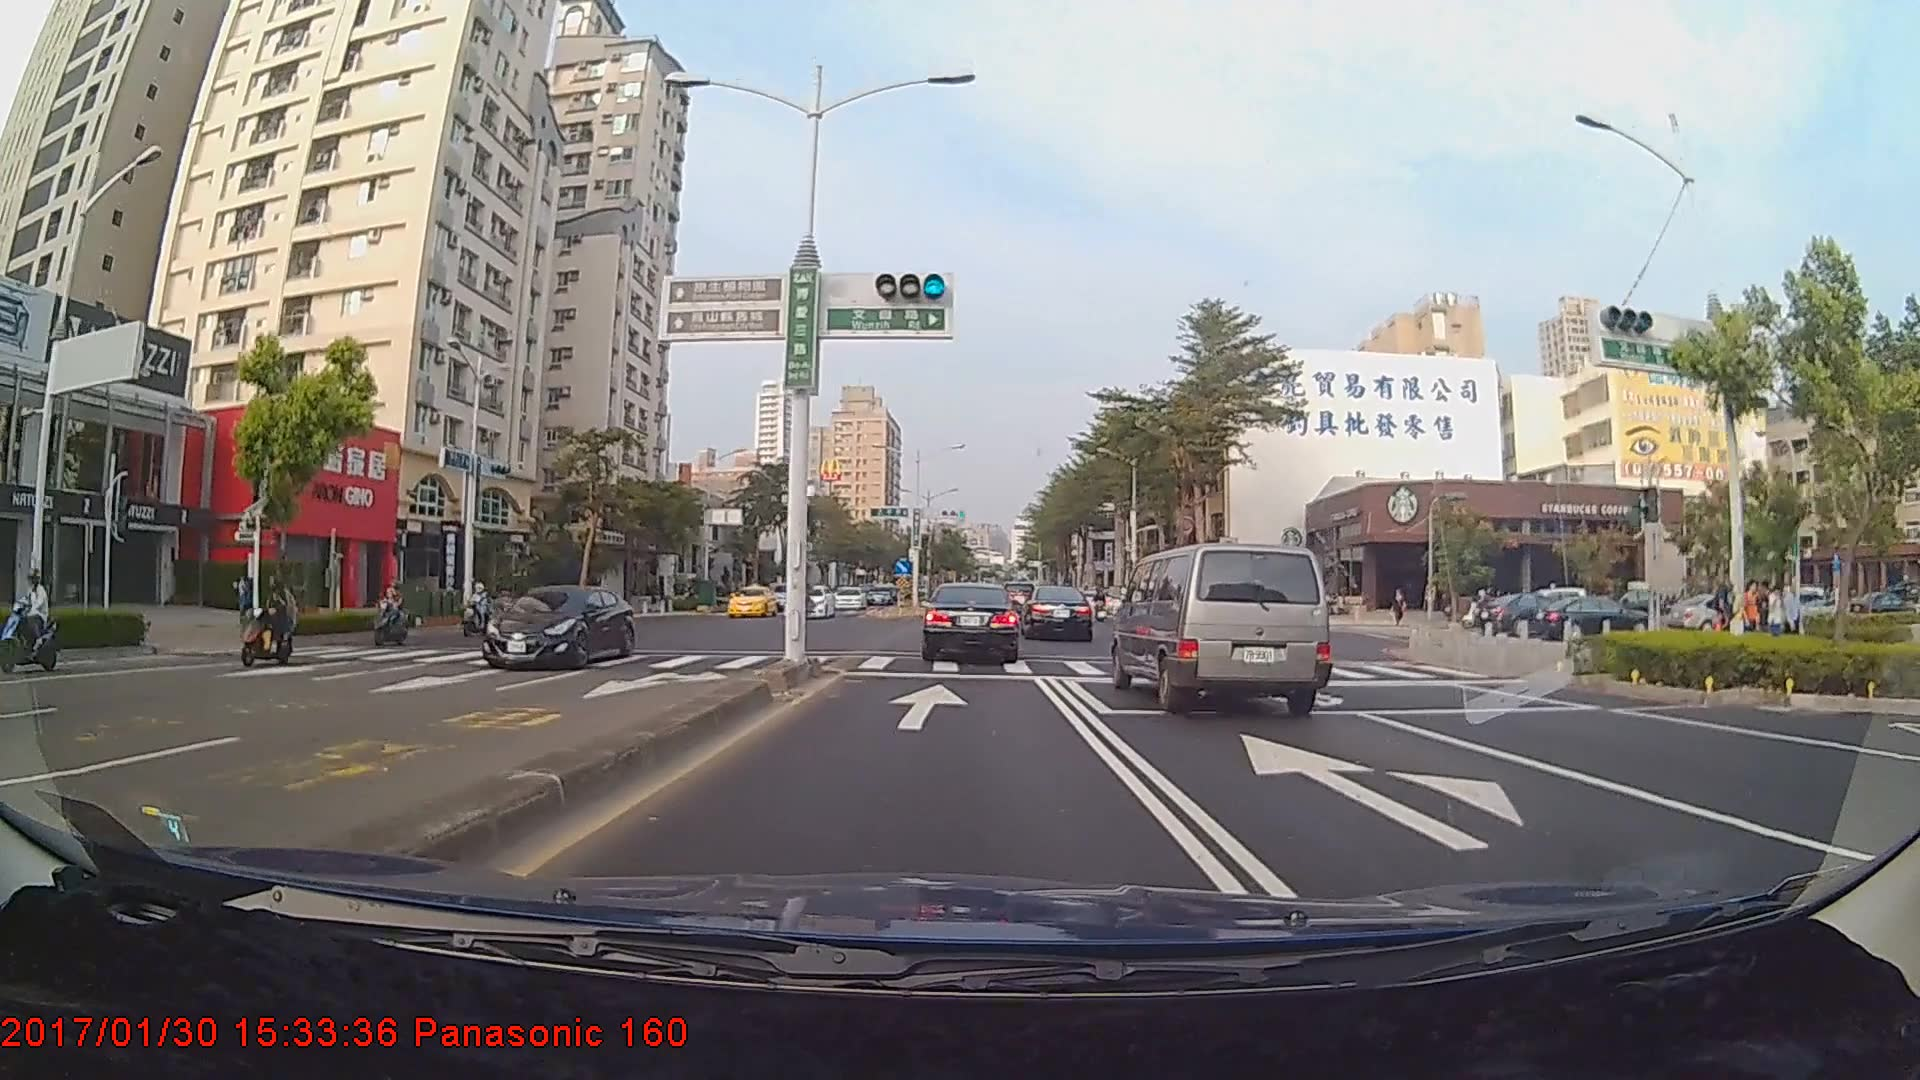pedestrian: (1714, 569, 1739, 653), (1783, 582, 1805, 653), (1741, 582, 1763, 647), (1768, 583, 1788, 651)
rider: (230, 570, 305, 670), (1, 570, 69, 675), (372, 578, 416, 651), (461, 573, 500, 631)
vehicle: (1110, 541, 1334, 712), (481, 584, 636, 668), (919, 581, 1022, 665), (1526, 591, 1658, 645), (1480, 590, 1570, 637), (1020, 584, 1094, 641), (724, 582, 778, 617), (785, 583, 835, 619), (830, 584, 865, 610)
